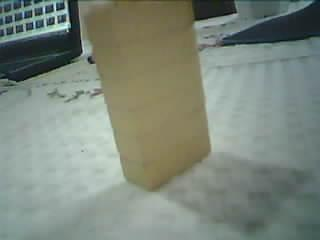lego: (86, 1, 211, 191)
